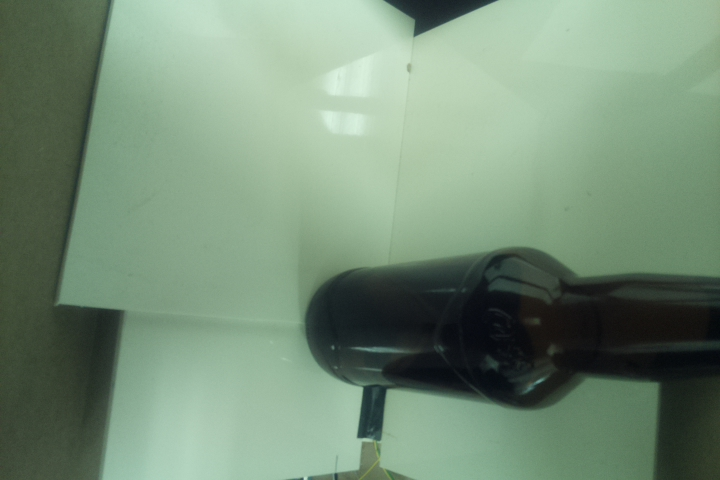makju: (306, 244, 720, 411)
